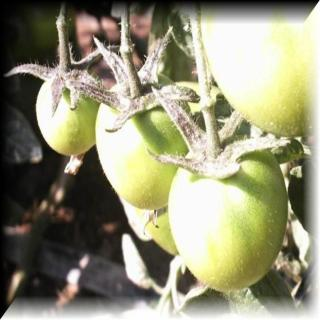tomato: (144, 84, 302, 293), (74, 30, 201, 214), (198, 0, 319, 137), (5, 45, 120, 155)
